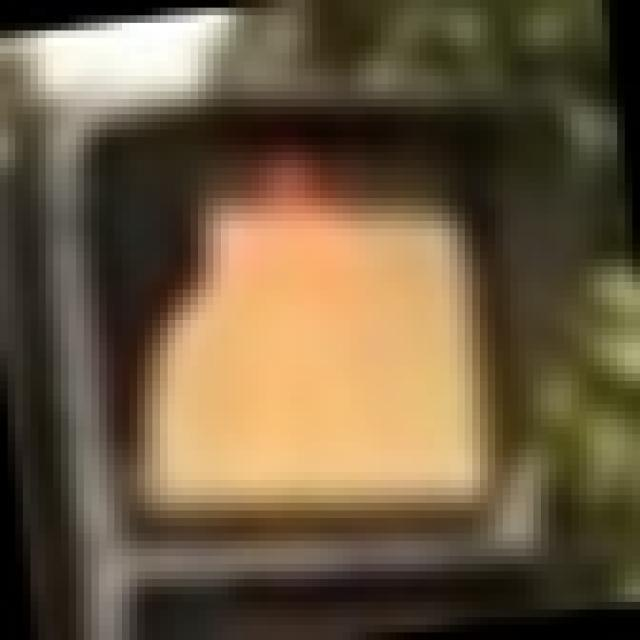red-crossing: (114, 69, 503, 534)
